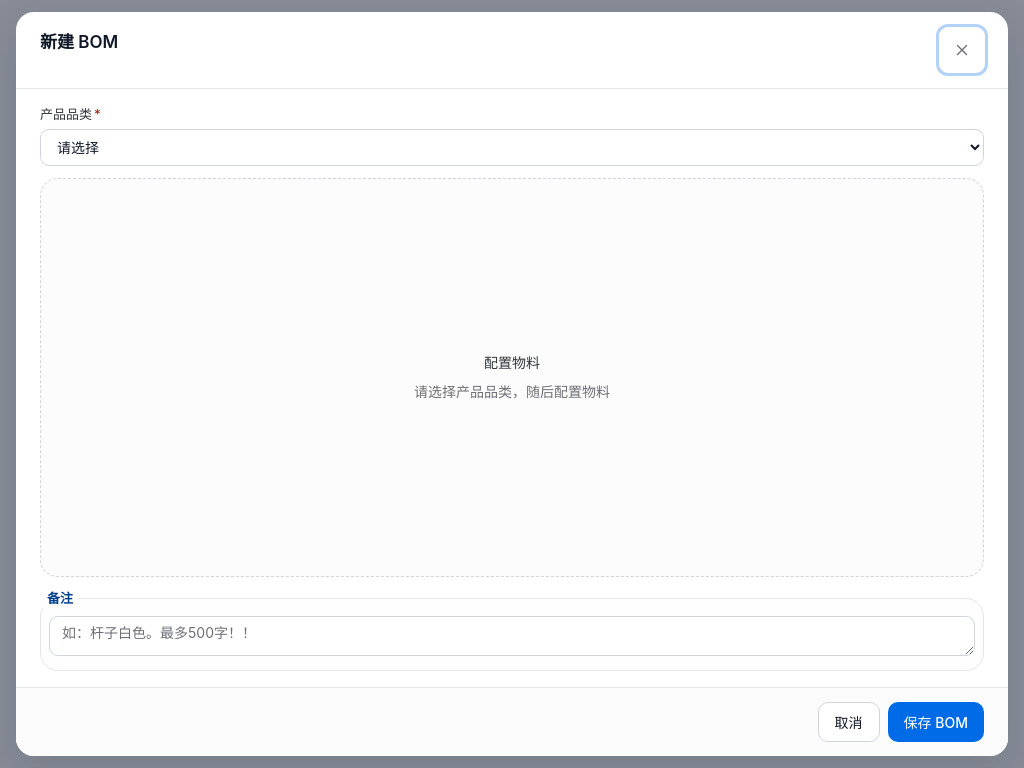
Test case: 多选组折叠后显示已选数量
Select "演示品类" in the dropdown labelled "产品品类*" at (512, 147), box [40, 128, 984, 166]
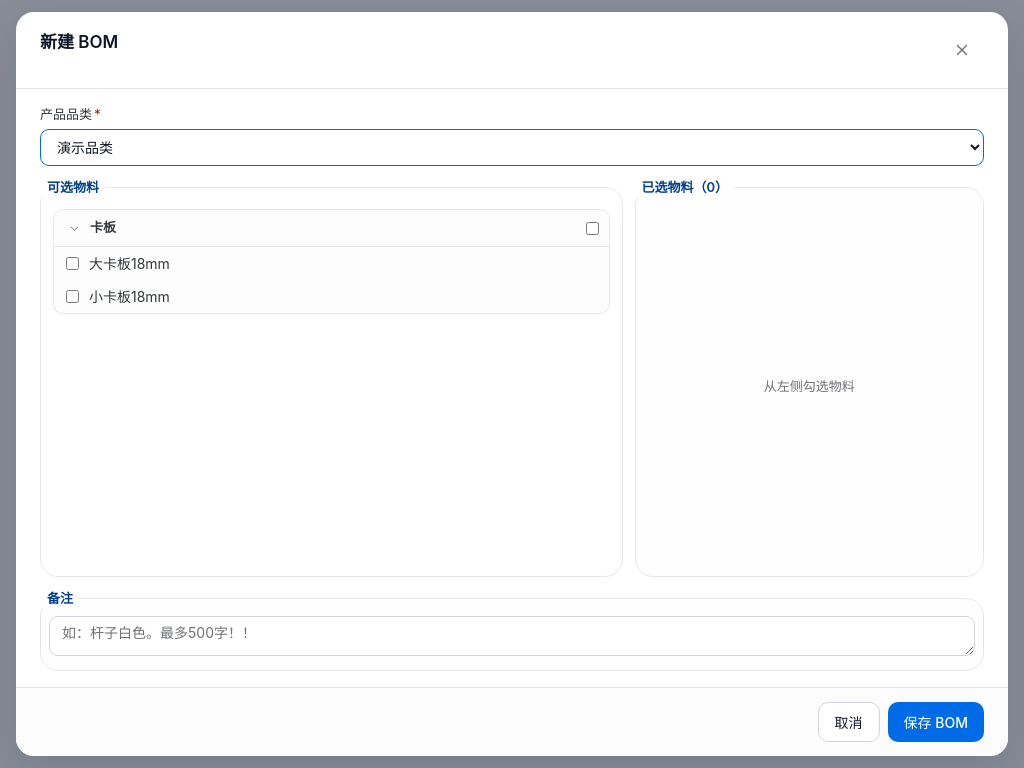
Click the checkbox labelled "大卡板18mm" at (72, 264), box [66, 257, 79, 270]
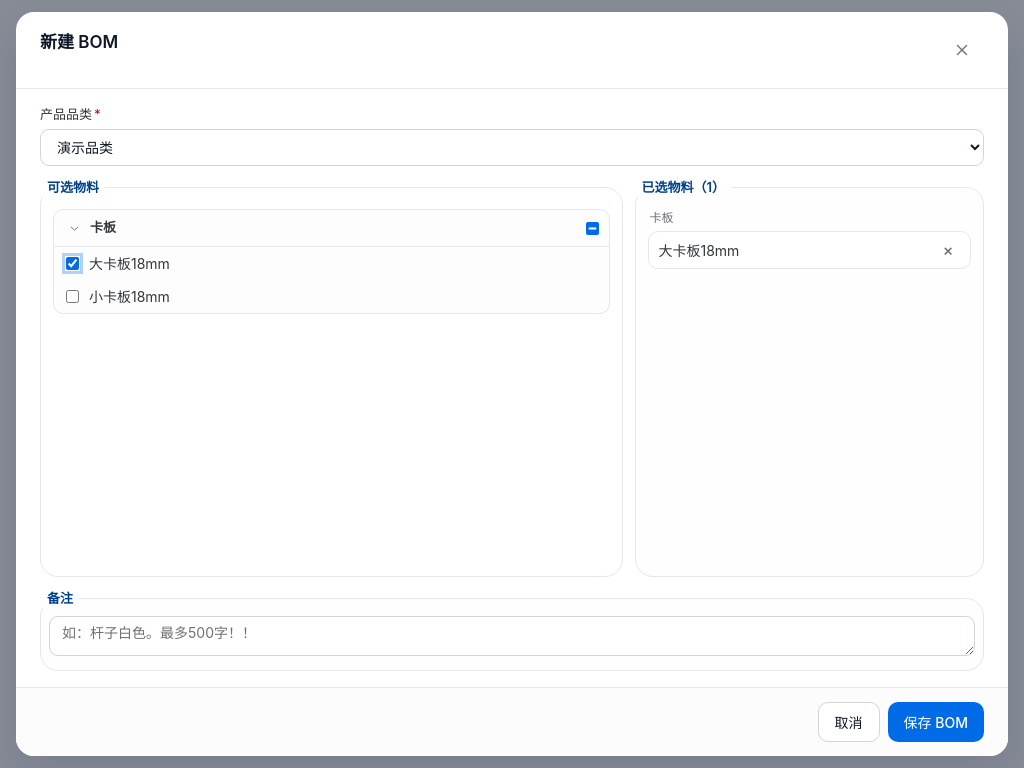
Click the checkbox labelled "小卡板18mm" at (72, 296), box [66, 290, 79, 303]
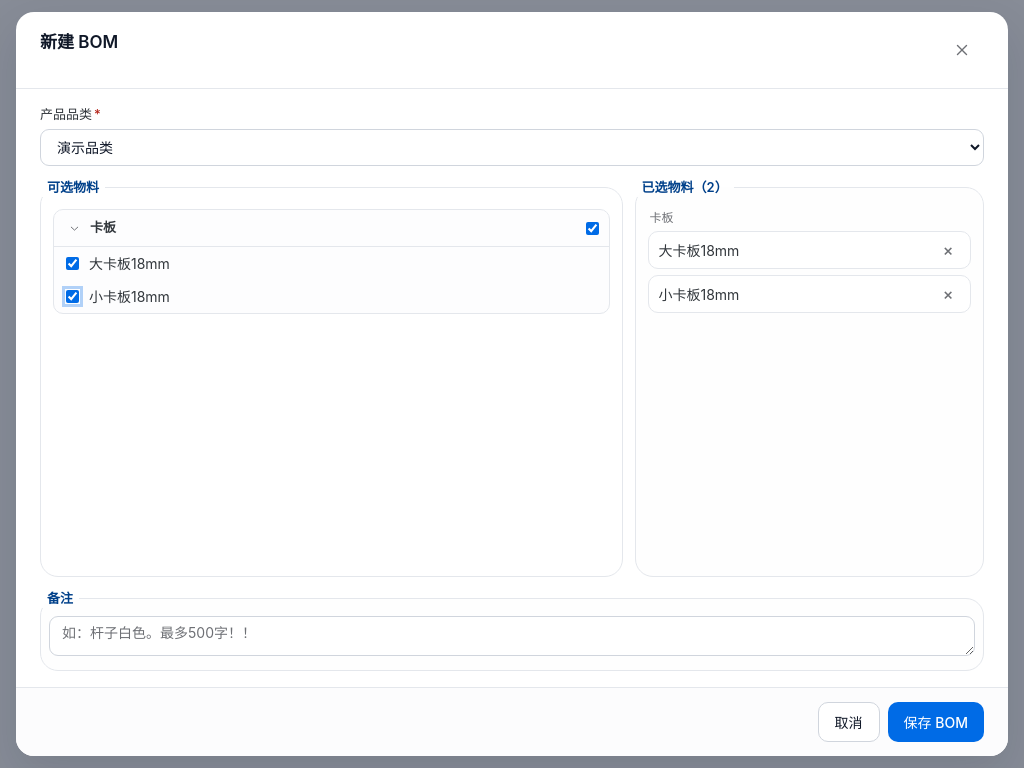
Click the button named "折叠卡板" at (74, 228), box [64, 218, 84, 238]
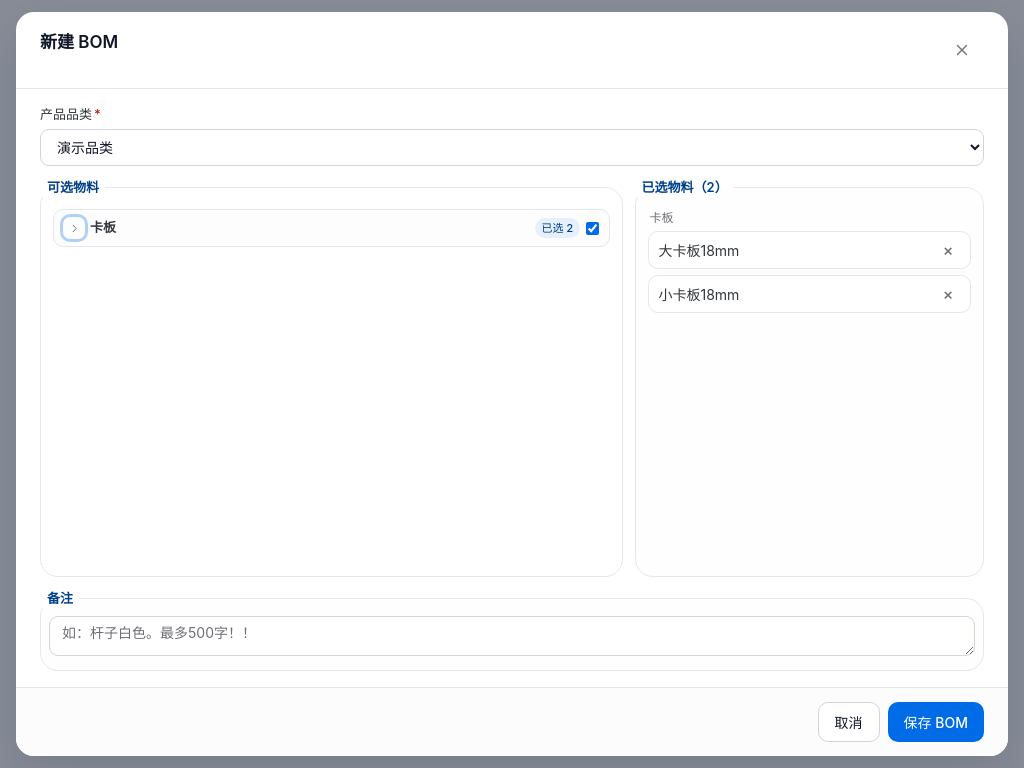
Now the text "已选 2" is shown, box [535, 218, 580, 238]
